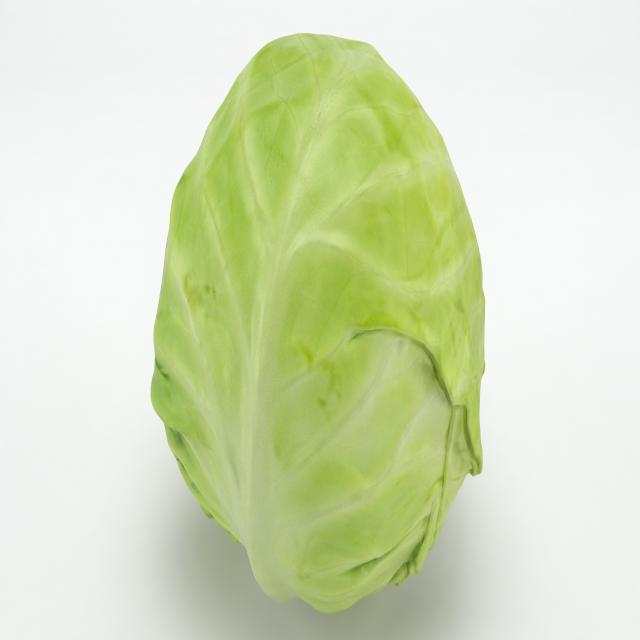cabbage: (146, 14, 490, 620)
